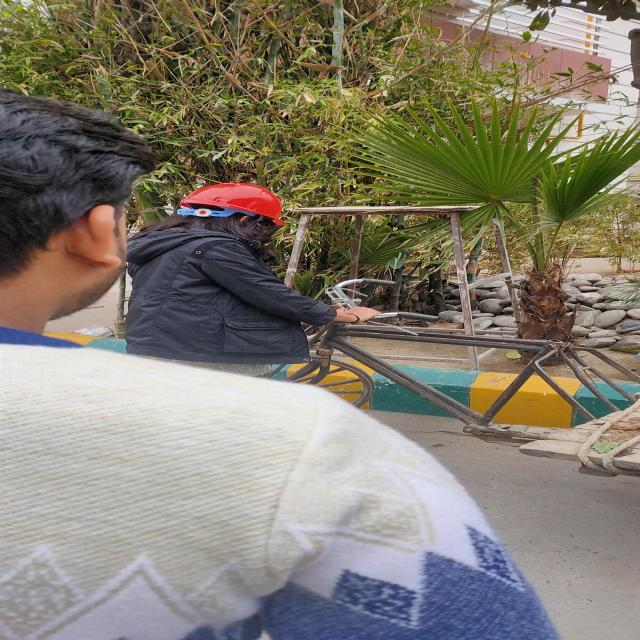no jacket: (0, 89, 160, 640), (137, 180, 378, 376)
